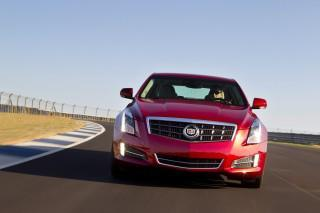cadillac: (182, 122, 202, 140)
